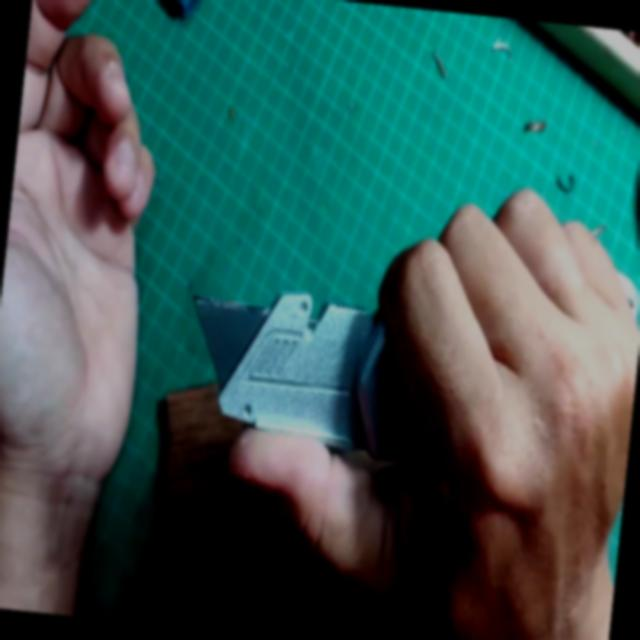cutter: (157, 177, 640, 640)
